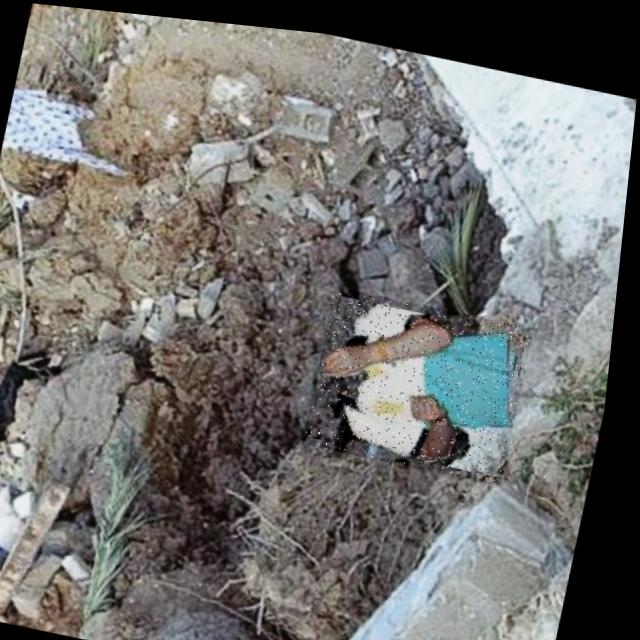Person in Rubble: (309, 276, 542, 474)
